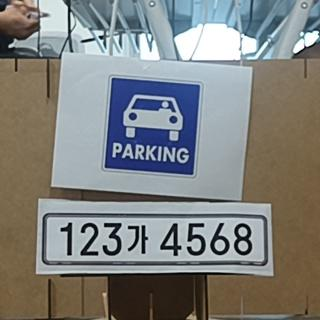normal: (41, 211, 269, 268)
